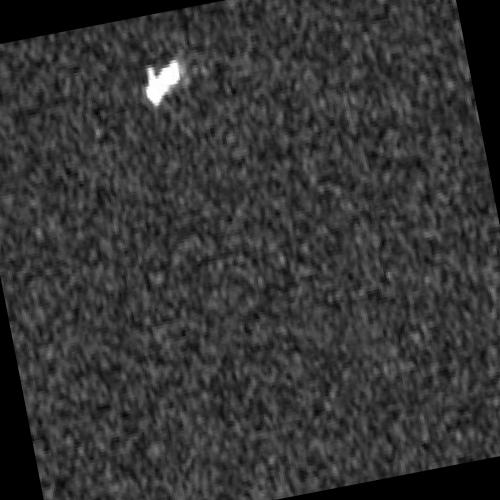ship: (146, 58, 182, 105)
